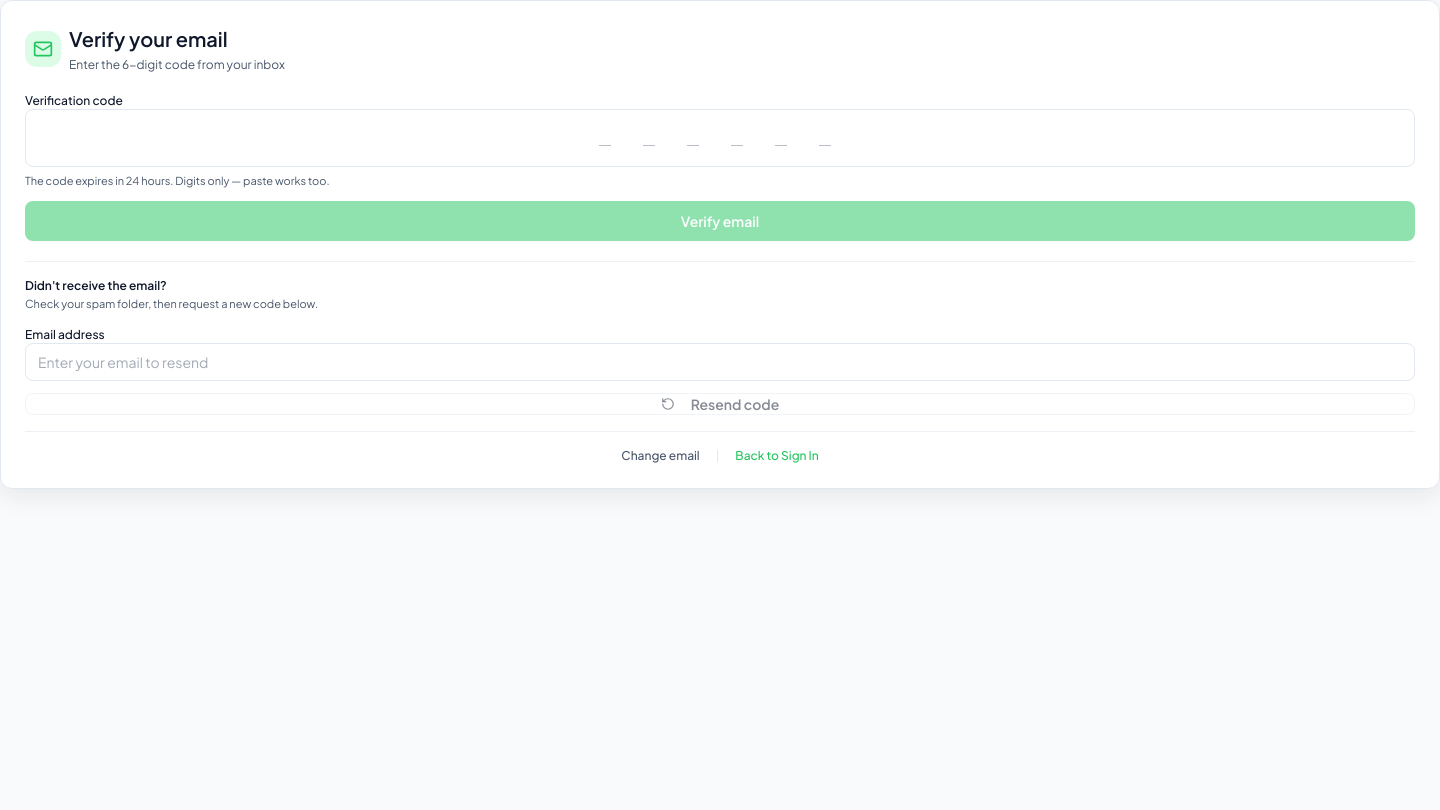
Test: SPMS O2 Authentication Flow › Verify page › displays rate-limited state when too many wrong attempts
Type "111111" into the field named "6-digit verification code" at (720, 138), box left=25, top=109, right=1415, bottom=167
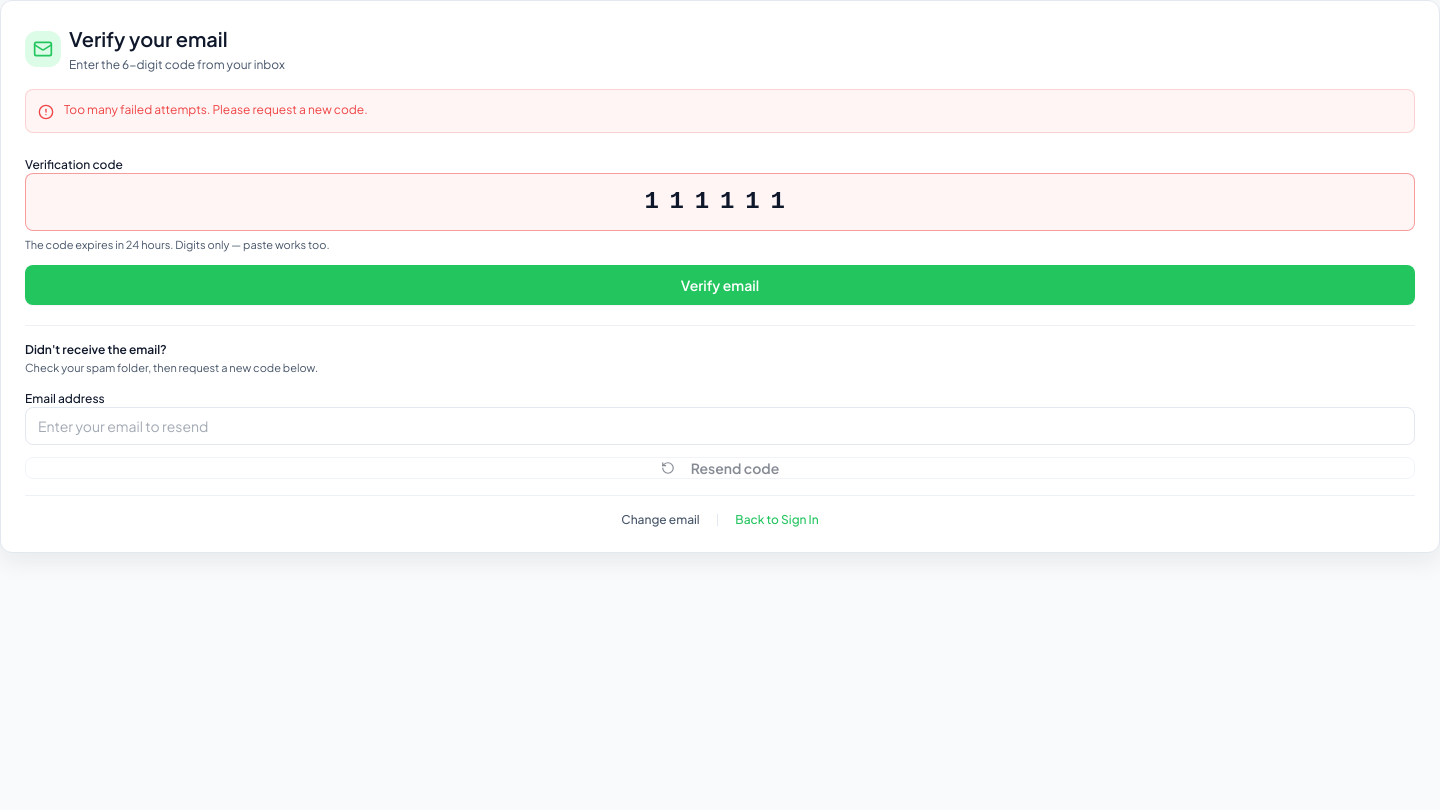
Check: the message "Too many failed attempts. Please request a new code." is shown, box left=25, top=89, right=1415, bottom=133
Check: the text "Too many failed attempts. Please request a new code." is shown, box left=64, top=102, right=368, bottom=118
